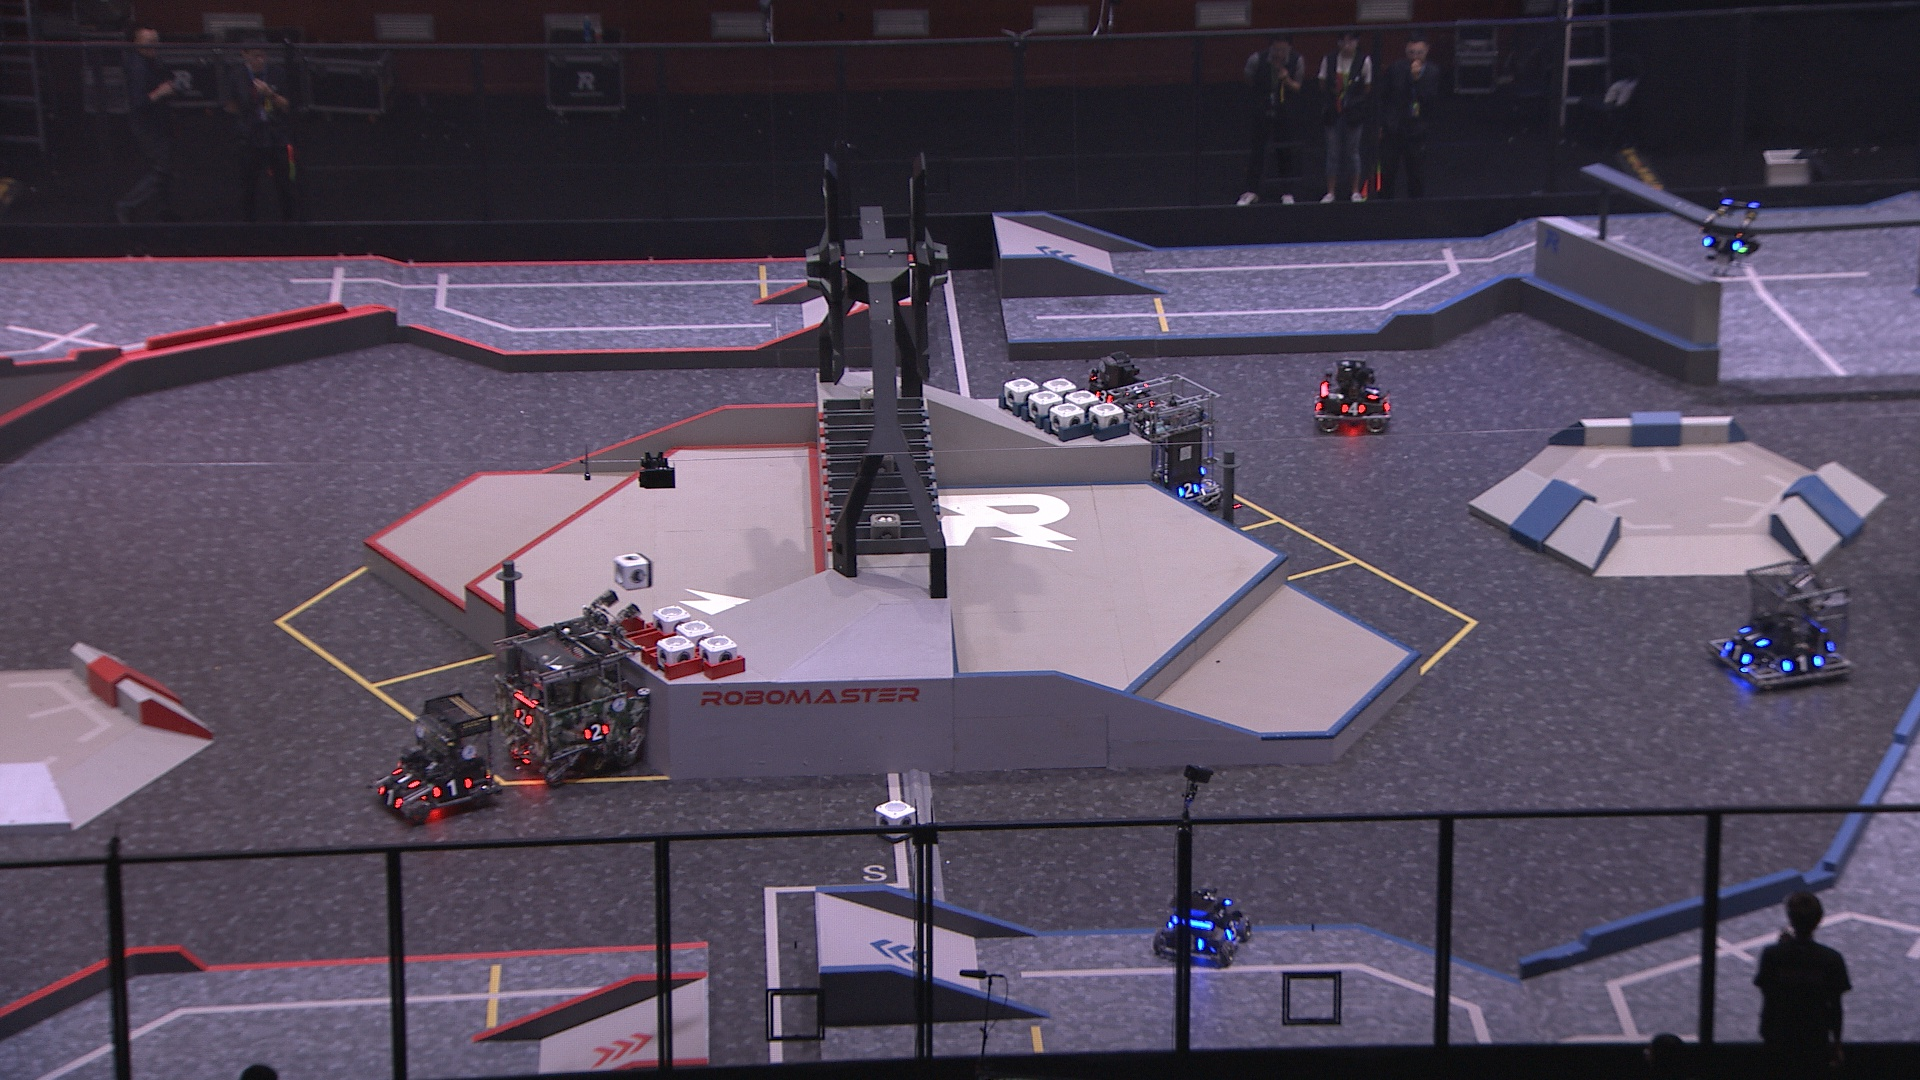armor: (427, 774, 477, 802), (1783, 650, 1826, 675), (1733, 622, 1774, 647), (386, 765, 423, 793), (376, 783, 407, 815), (1721, 641, 1756, 666), (1702, 232, 1741, 253), (583, 719, 612, 744), (1179, 928, 1209, 951), (1174, 479, 1203, 501), (1337, 398, 1366, 419), (514, 704, 535, 728), (1093, 385, 1114, 406), (1222, 920, 1240, 942), (1362, 384, 1381, 401)
car: (493, 618, 650, 785), (1702, 562, 1859, 695), (1087, 375, 1232, 514), (372, 688, 501, 823), (1150, 882, 1255, 971), (1313, 353, 1390, 433), (1083, 352, 1163, 419)
watcher: (1697, 182, 1762, 280)
